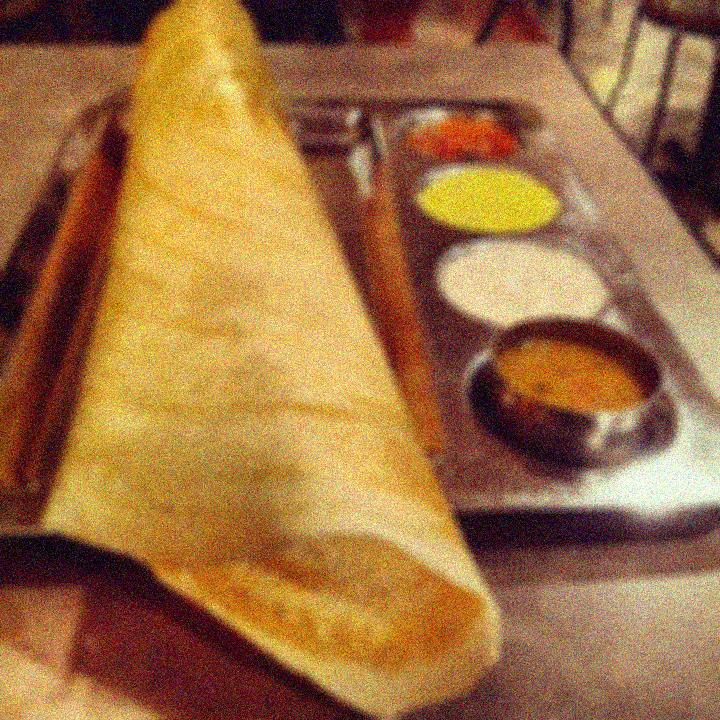dosa: (39, 1, 503, 720)
